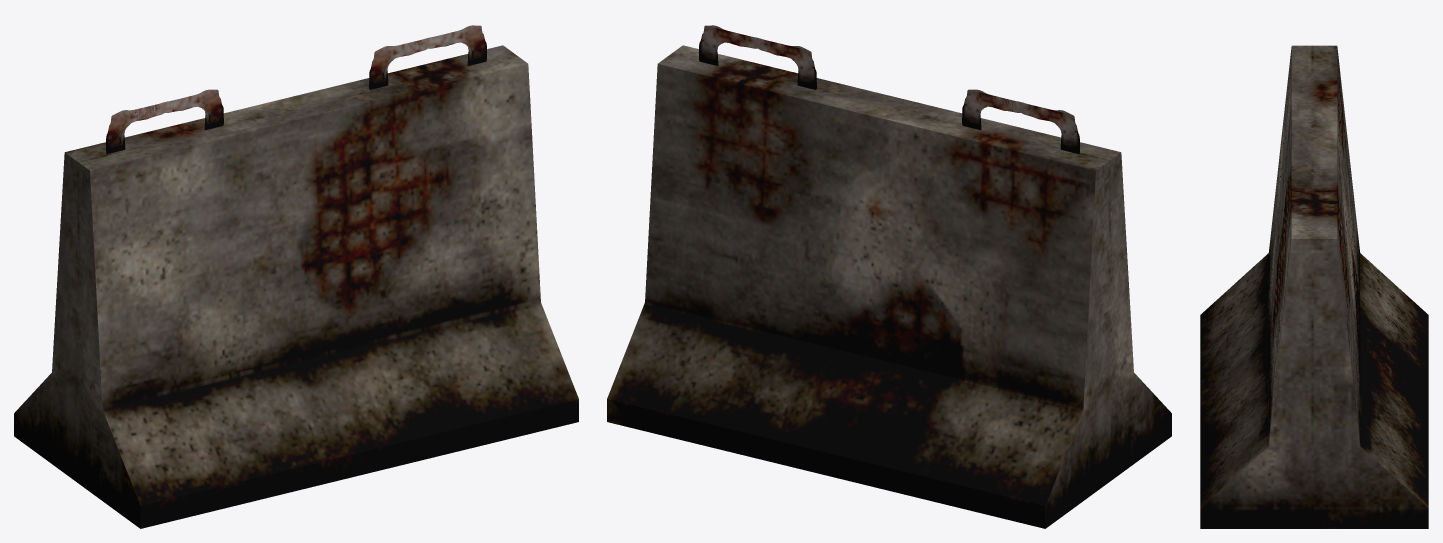
Rendered from ConcreteBarrierDemaged.fbx.
The picture shows the model from 3 angles, left to right: view 1: azimuth 30°, elevation 25°; view 2: azimuth 150°, elevation 25°; view 3: azimuth 270°, elevation 25°; orthographic projection. The views are drawn at different scales.
Parts seen in each view (by area): view 1: ConcreteBarrierDemaged; view 2: ConcreteBarrierDemaged; view 3: ConcreteBarrierDemaged.
Boxes of the visible parts, x1=… form: ConcreteBarrierDemaged: x1=14, y1=25, x2=578, y2=528; ConcreteBarrierDemaged: x1=607, y1=25, x2=1171, y2=528; ConcreteBarrierDemaged: x1=1200, y1=45, x2=1428, y2=528.
Size of the model in its own units: 200 by 160 by 100.
